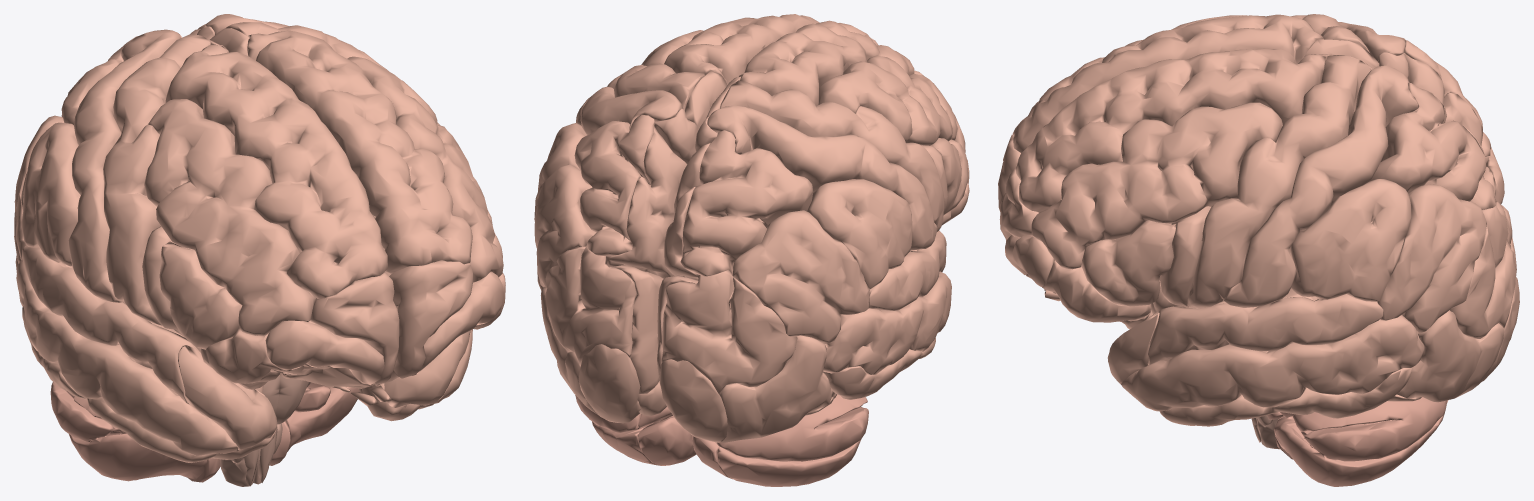
File: brain.mo.glb
3 views of the same model, side by side, from view 1: azimuth 30°, elevation 25°; view 2: azimuth 150°, elevation 25°; view 3: azimuth 270°, elevation 25° (orthographic). The views are drawn at different scales.
Parts seen in each view (by area): view 1: Frontal_lobe, Temporal_lobe, Parietal_lobe, Cerebellum, Brainstem; view 2: Parietal_lobe, Occipital_lobe, Frontal_lobe, Cerebellum, Temporal_lobe; view 3: Frontal_lobe, Parietal_lobe, Temporal_lobe, Occipital_lobe, Cerebellum, Brainstem.
Boxes of the visible parts, x1,y1,x2,y2 form: Frontal_lobe: [103, 22, 505, 459]; Temporal_lobe: [16, 245, 472, 462]; Parietal_lobe: [14, 14, 388, 302]; Cerebellum: [50, 382, 359, 482]; Brainstem: [220, 375, 310, 486]; Parietal_lobe: [534, 86, 937, 343]; Occipital_lobe: [540, 245, 835, 442]; Frontal_lobe: [607, 14, 969, 231]; Cerebellum: [575, 394, 868, 486]; Temporal_lobe: [537, 230, 951, 399]; Frontal_lobe: [998, 14, 1379, 328]; Parietal_lobe: [1223, 22, 1496, 333]; Temporal_lobe: [1107, 288, 1424, 426]; Occipital_lobe: [1388, 148, 1519, 402]; Cerebellum: [1267, 397, 1448, 486]; Brainstem: [1251, 415, 1279, 449].
Size of the model in its own units: 1.63 by 1.74 by 2.
